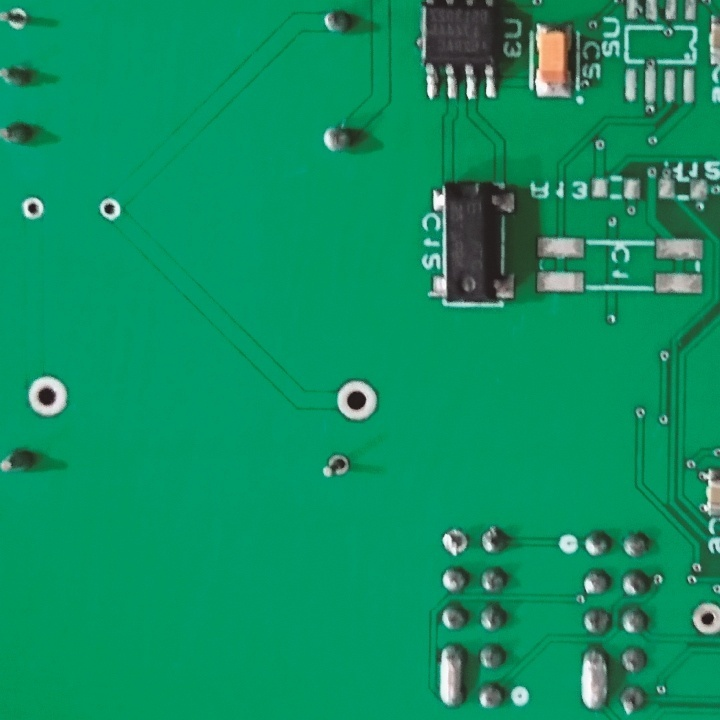F: (25, 373, 74, 417), (330, 382, 383, 422), (439, 524, 471, 560), (690, 599, 720, 637), (318, 451, 354, 479), (1, 6, 34, 35), (22, 195, 50, 225), (99, 198, 124, 225)
P: (577, 645, 612, 714), (435, 642, 467, 712)
